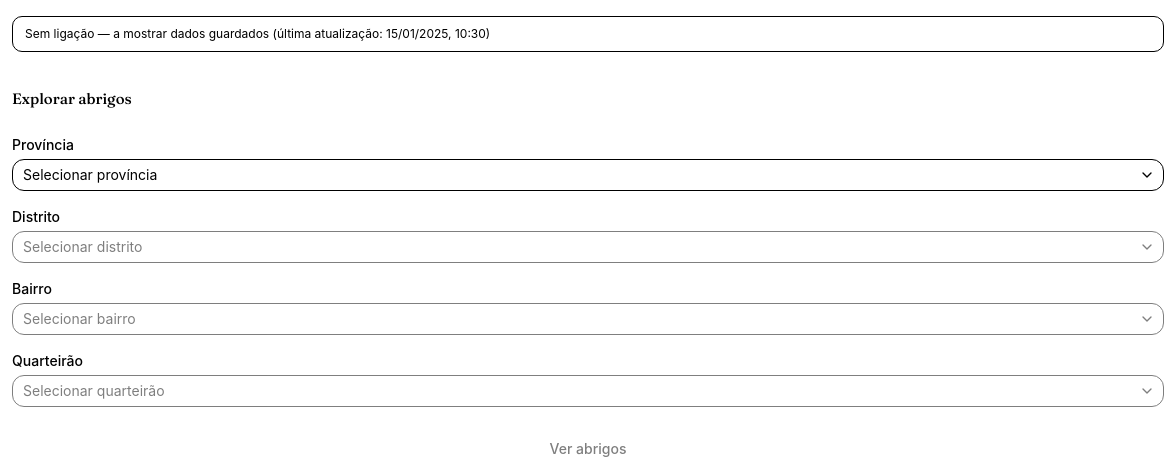
Scenario: GeographicPicker › falls back to Dexie cache when fetch fails and valid cache exists
expect the text "Sem ligação" is shown: met, box [25,26,269,41]
expect the text "15/01/2025" is shown: met, box [269,26,490,41]
Click the dropdown labelled "província" at (90, 174), box [12,158,1164,190]
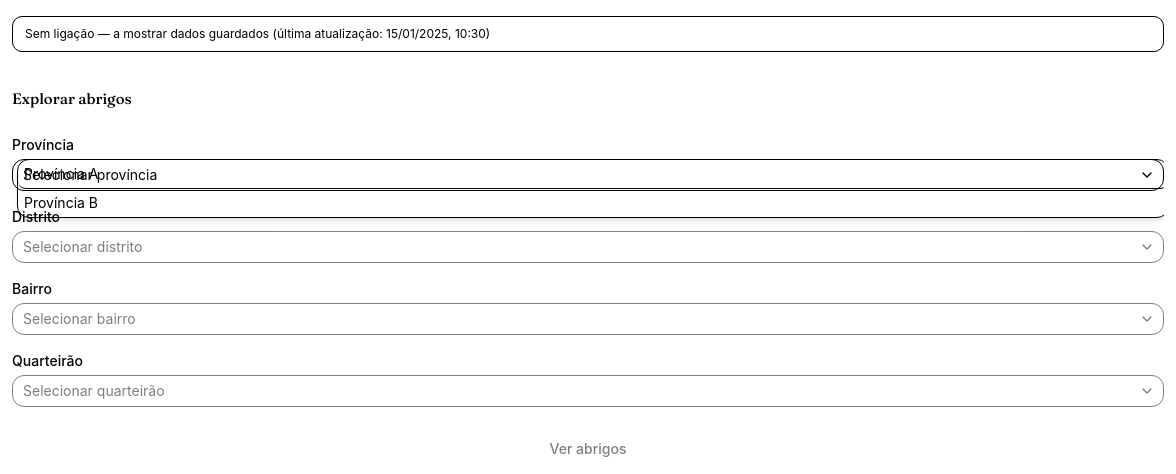
Click the option "Província A" at (61, 173), box [18,160,1164,188]
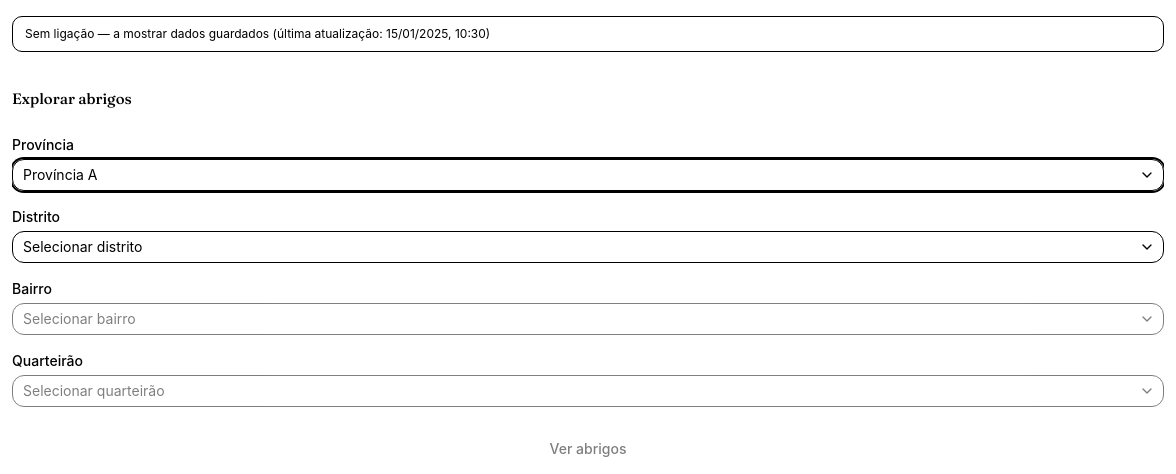
expect the dropdown labelled "distrito" is enabled: met, box [12,230,1164,262]
